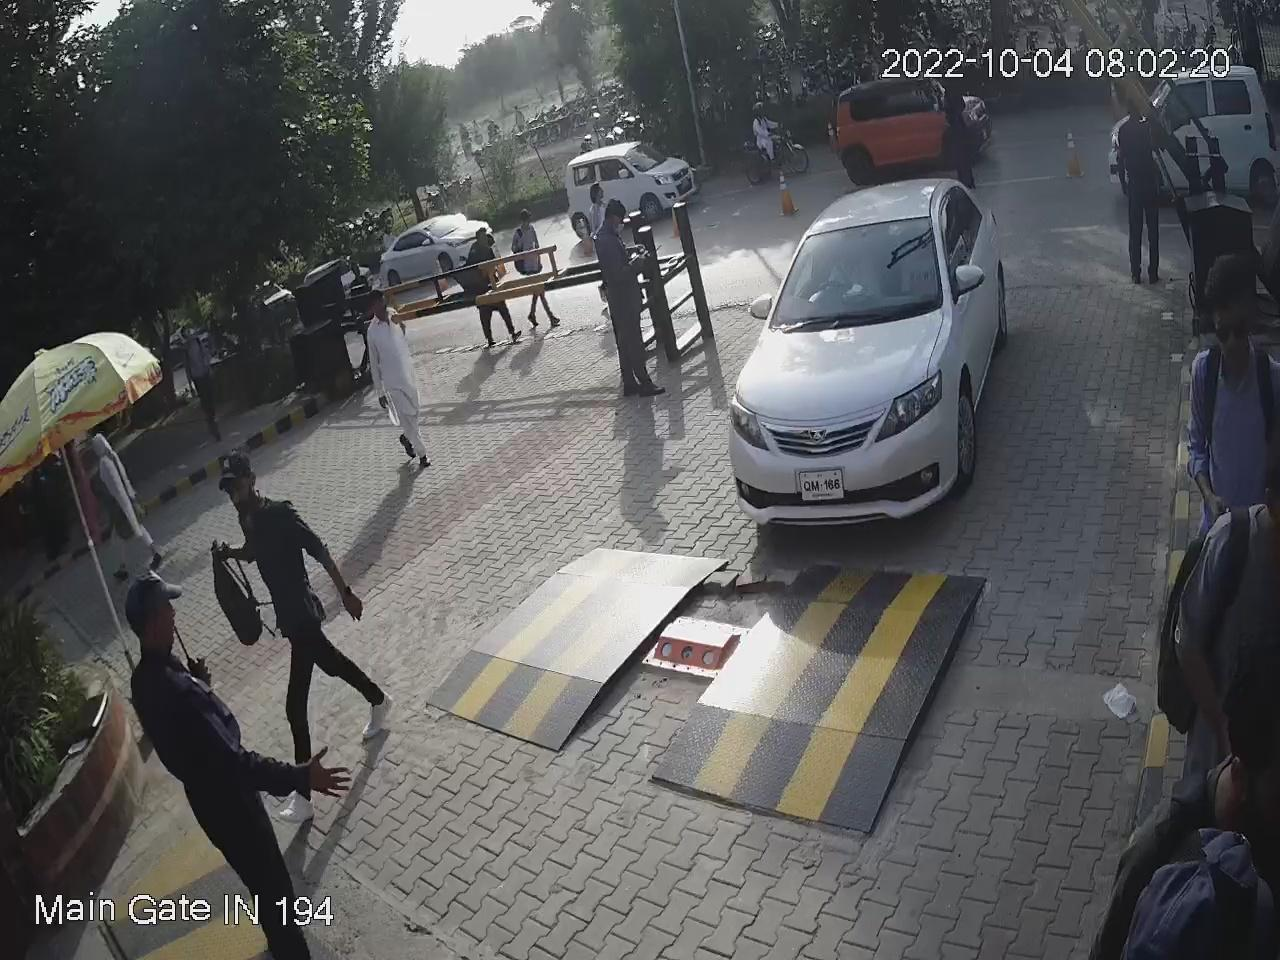windshield: (763, 208, 942, 330)
